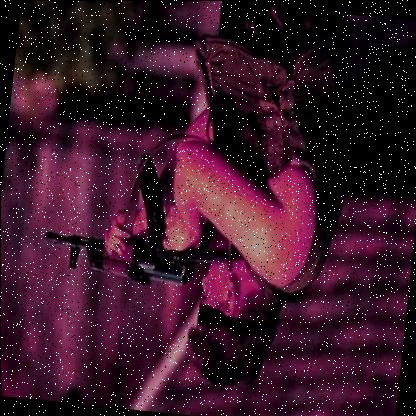rifle: (39, 146, 257, 299)
